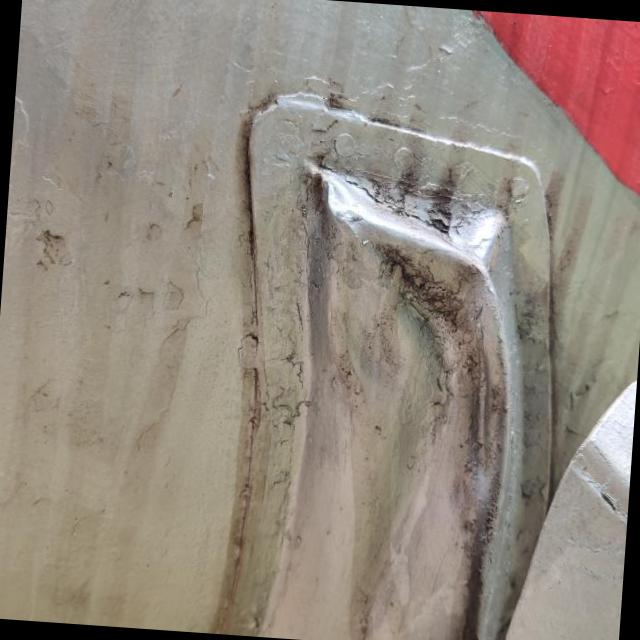Dent: (231, 98, 551, 640)
